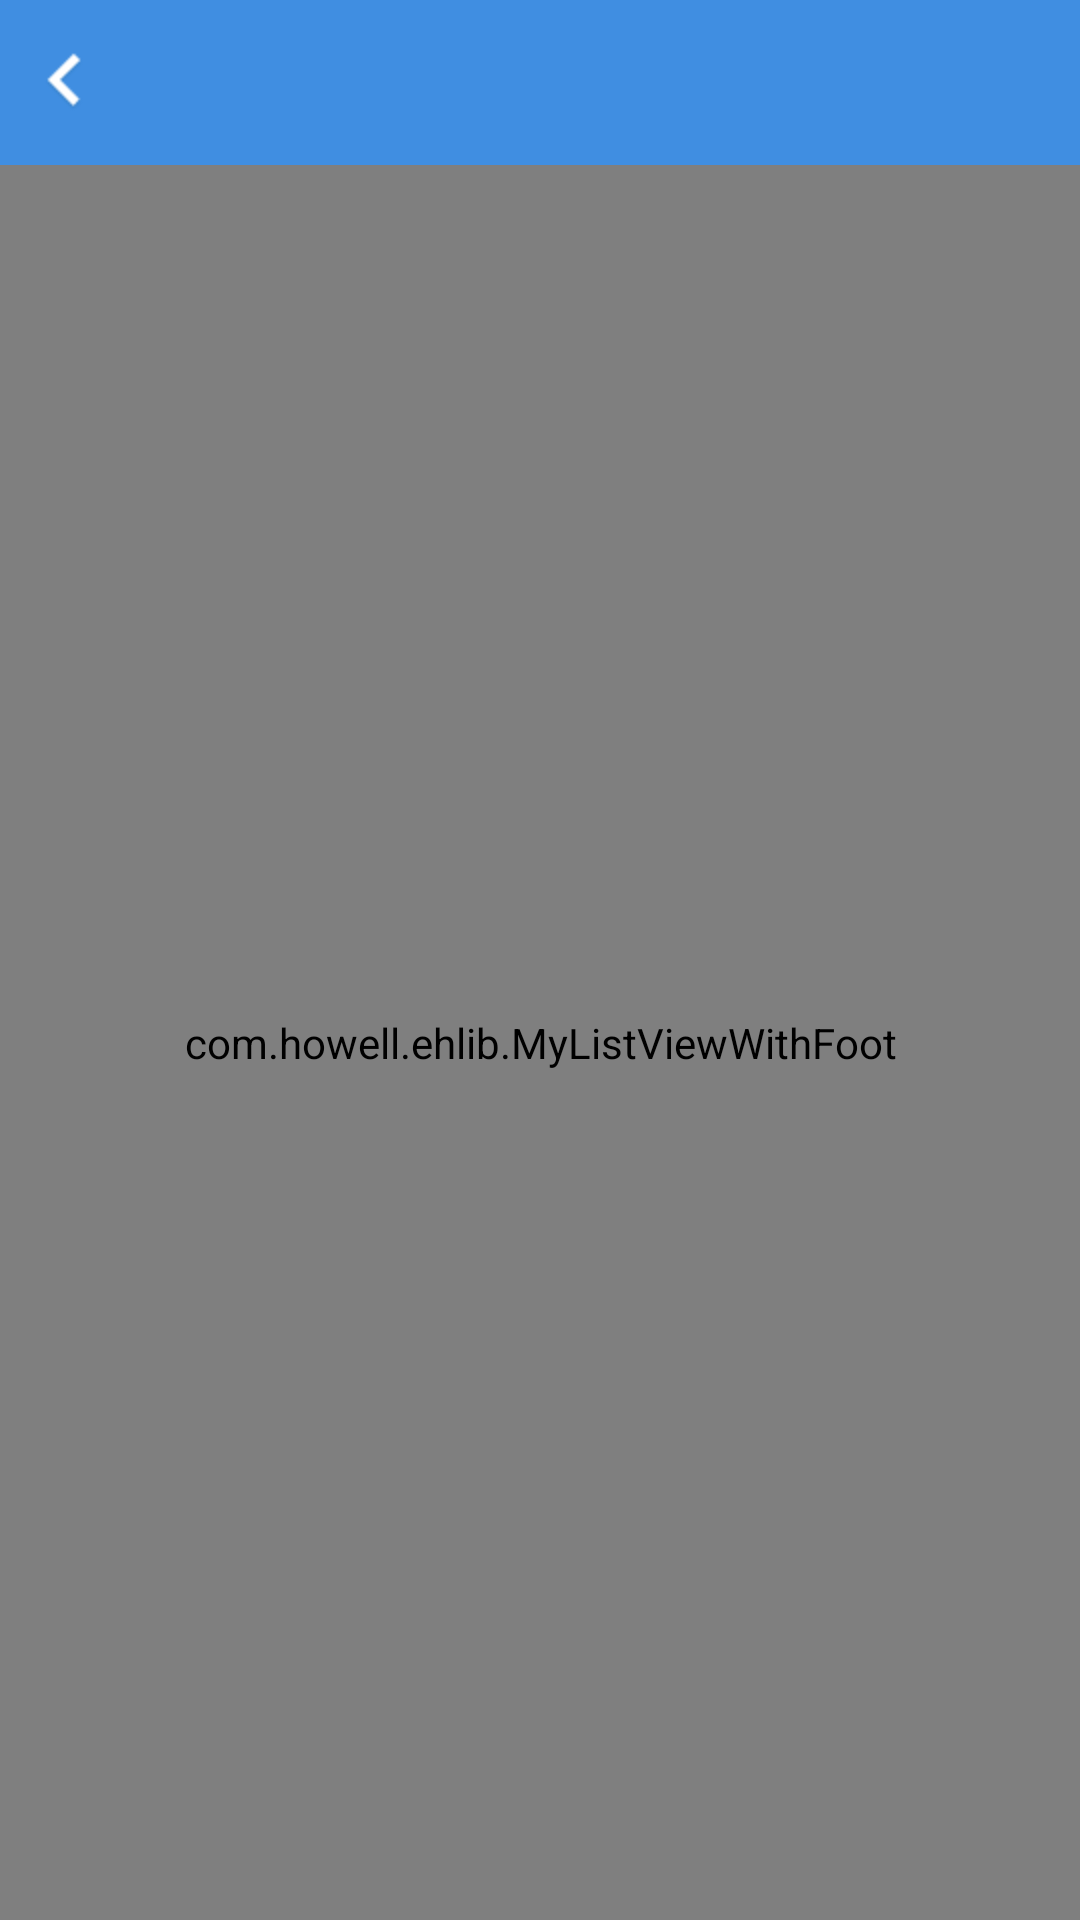

Named icons in this screenshot (1080 x 1920) and their bounding boxes, (x1, y1, x2, y2):
back: (47, 53, 81, 106)
